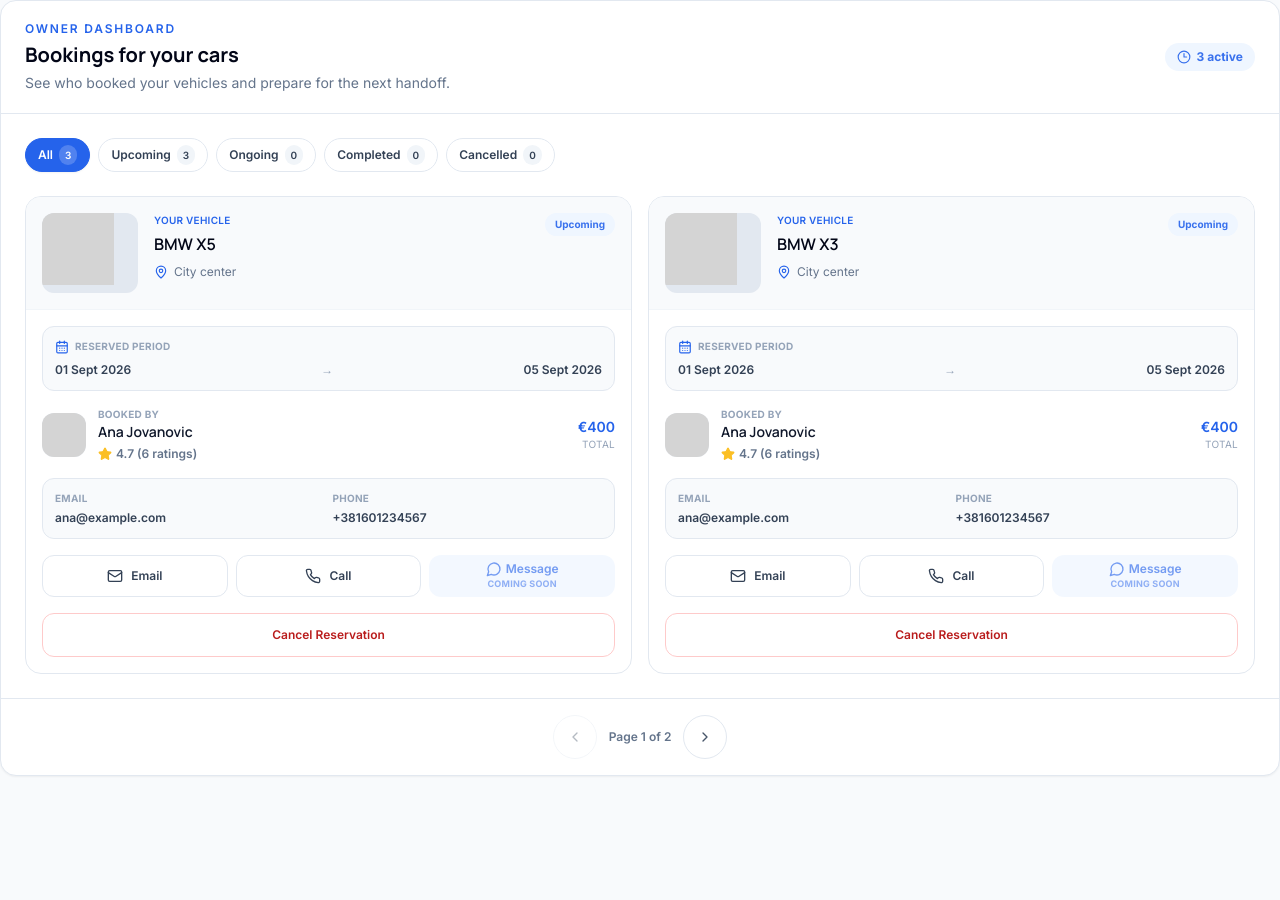
Test: IncomingBookingsSection › shows two bookings per page and navigates horizontally
Expected: the heading "BMW X5" is shown, x1=154 y1=233 x2=216 y2=255
Expected: the heading "BMW X3" is shown, x1=777 y1=233 x2=839 y2=255
Click the button named "Next bookings page". click: (705, 736)
box: x1=683 y1=714 x2=727 y2=758
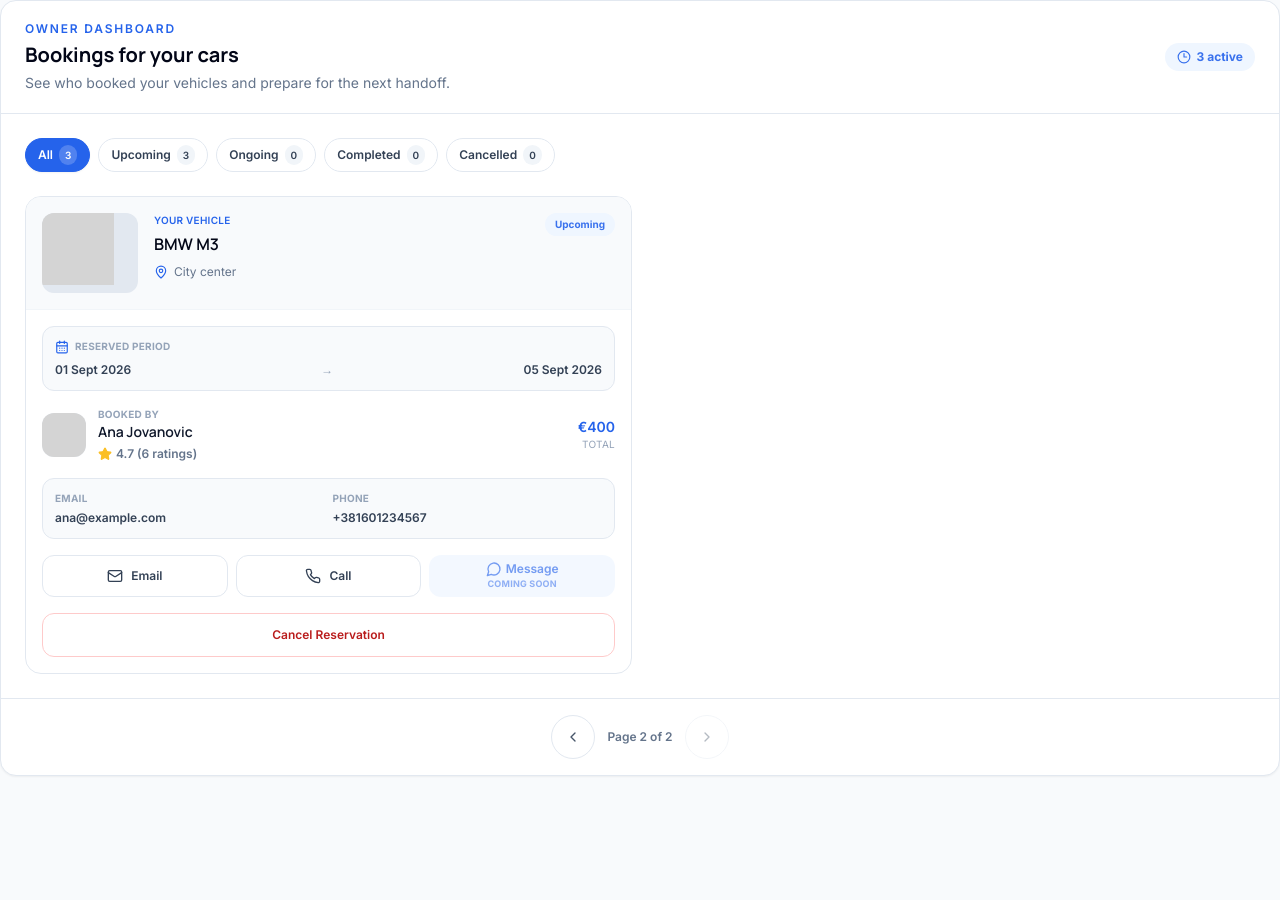
Expected: the heading "BMW M3" is shown, x1=154 y1=233 x2=219 y2=255
Expected: the heading "BMW X5" is gone
Expected: the text "Page 2 of 2" is shown, x1=607 y1=728 x2=673 y2=744
